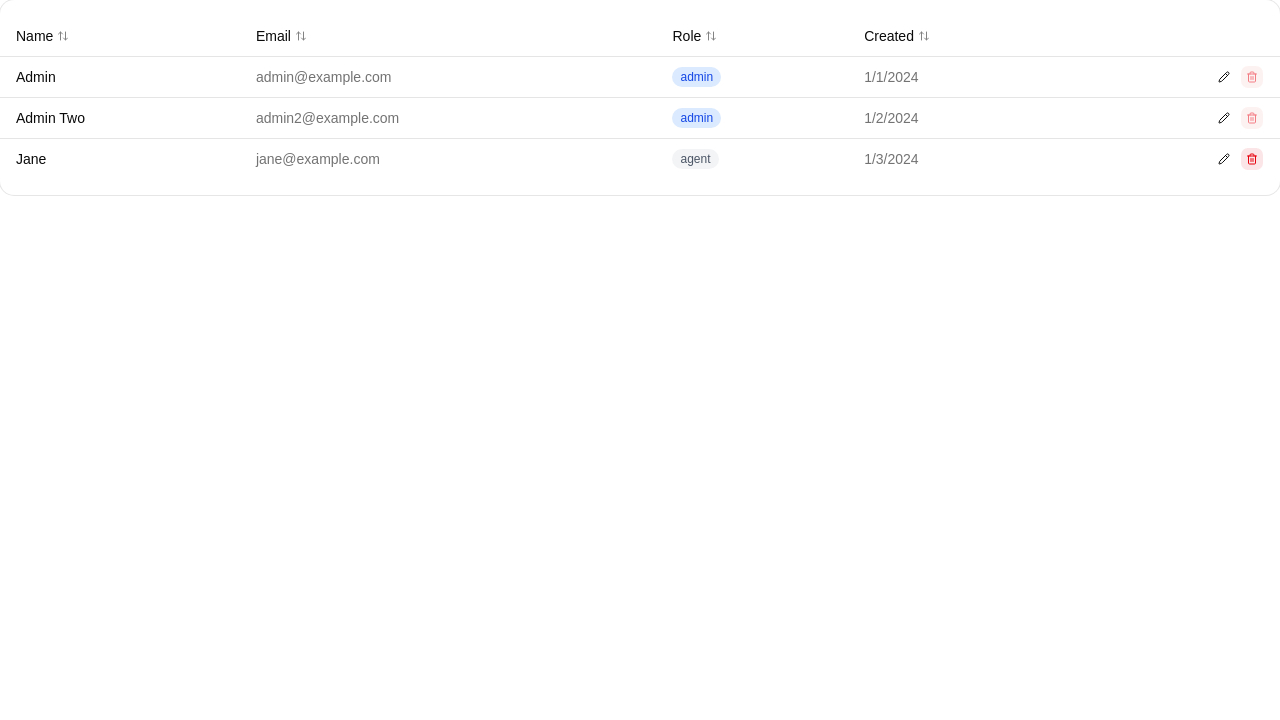
Test: UserTable › confirmation dialog › closes the dialog without deleting when Cancel is clicked
Click the button named "delete user" in the row of "jane@example.com".
click(1252, 158)  # box [1240,146,1264,170]
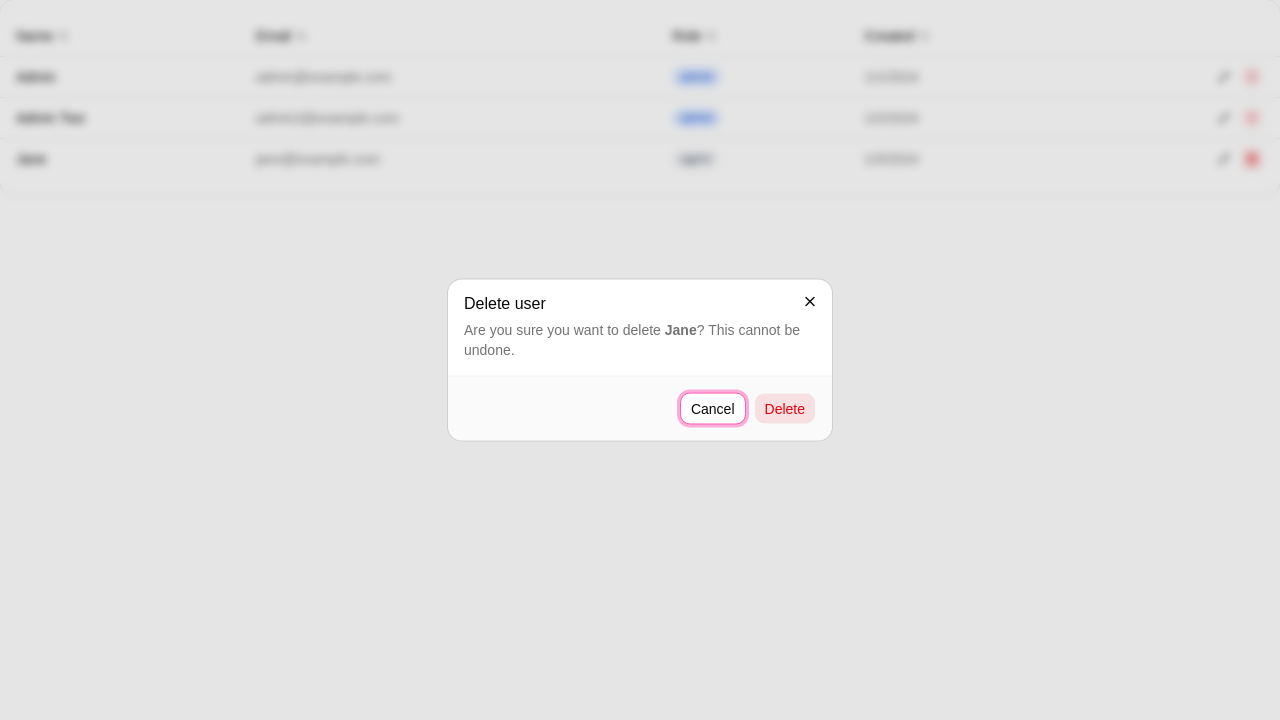
Click the button "Cancel".
click(713, 408)  # box [680,392,746,424]
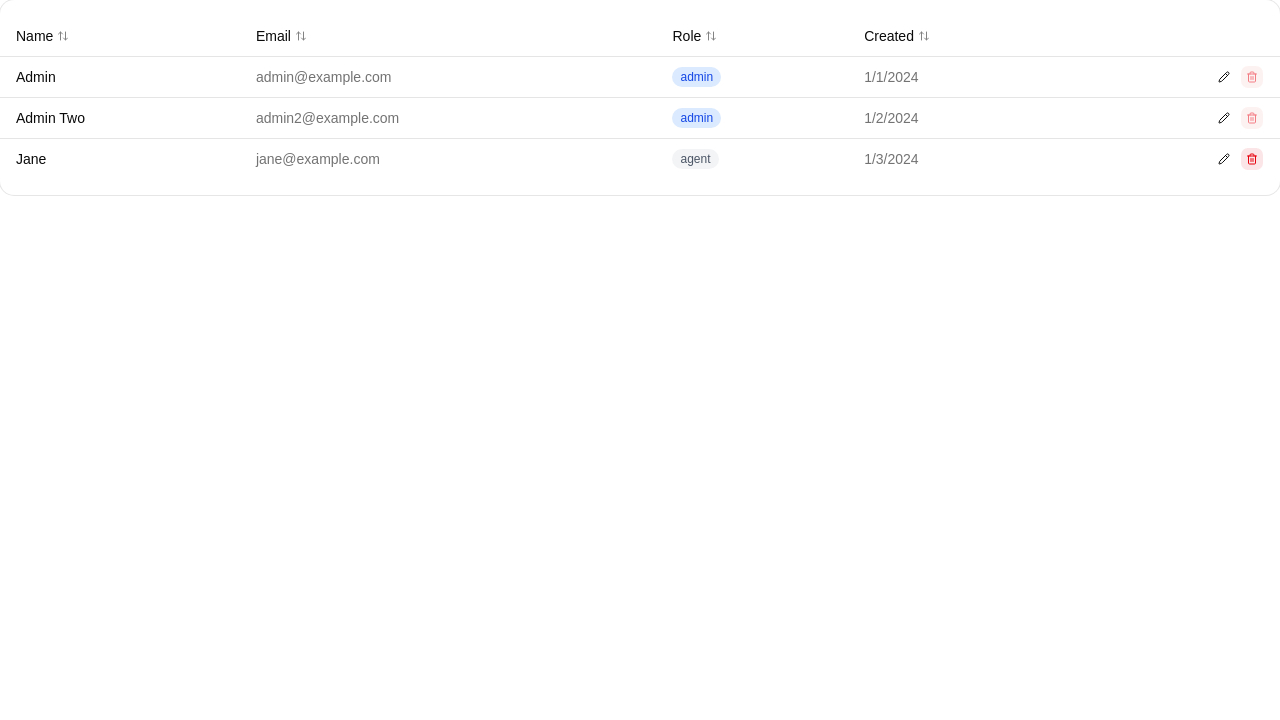
Expected: the dialog is gone
